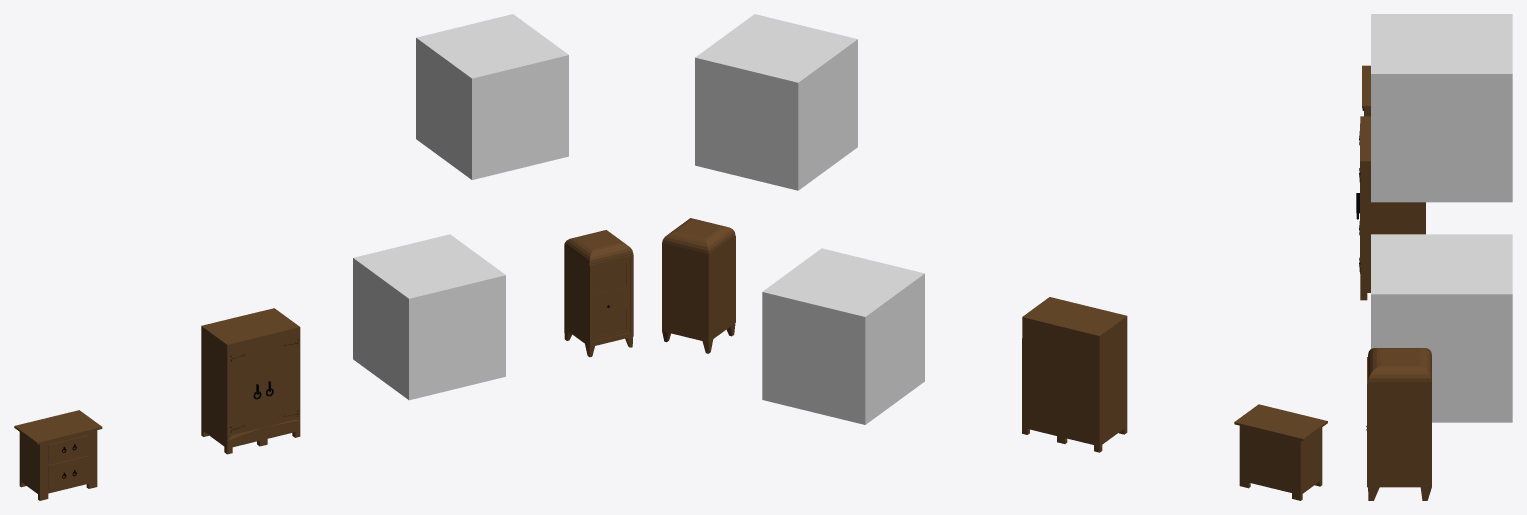
The model's file is armário.fbx.
The picture shows the model from 3 angles, left to right: view 1: azimuth 30°, elevation 25°; view 2: azimuth 150°, elevation 25°; view 3: azimuth 270°, elevation 25°; orthographic projection. The views are drawn at different scales.
Visible parts, largest first — view 1: Cube.002, Cube.003, Torus.005, Cube.009, Cube; view 2: Cube.002, Cube.003, Torus.005, Cube.009, Cube; view 3: Cube.003, Cube.002, Cube.009, Torus.005, Cube.
Boxes of the visible parts, left/top/right/bottom form: Cube.002: left=353, top=234, right=505, bottom=400; Cube.003: left=416, top=14, right=568, bottom=179; Torus.005: left=201, top=308, right=300, bottom=454; Cube.009: left=564, top=230, right=633, bottom=357; Cube: left=14, top=410, right=102, bottom=500; Cube.002: left=762, top=248, right=924, bottom=424; Cube.003: left=695, top=14, right=857, bottom=190; Torus.005: left=1022, top=297, right=1127, bottom=452; Cube.009: left=662, top=218, right=735, bottom=353; Cube: left=1234, top=404, right=1327, bottom=500; Cube.003: left=1371, top=14, right=1512, bottom=202; Cube.002: left=1371, top=234, right=1512, bottom=422; Cube.009: left=1367, top=348, right=1431, bottom=500; Torus.005: left=1356, top=116, right=1425, bottom=300; Cube: left=1362, top=65, right=1370, bottom=116.
Bounding box in the file's own units: 1110 × 558 × 198.
